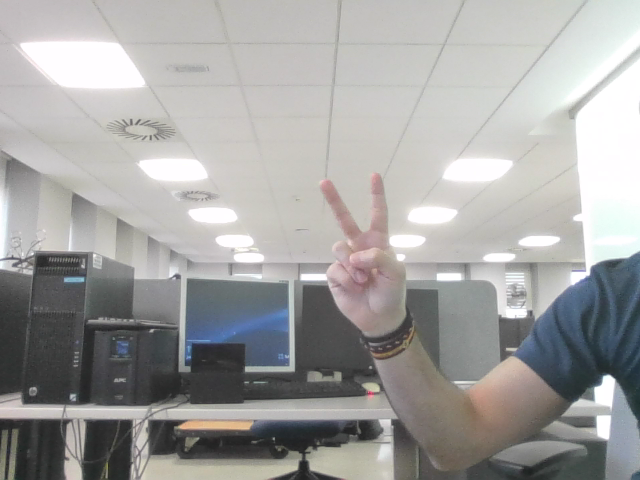2Dedos: (328, 185, 390, 293)
